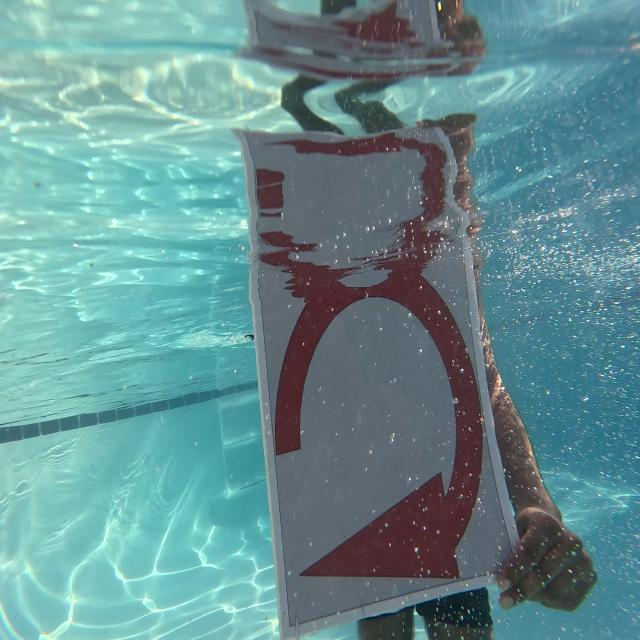red_side: (254, 238, 505, 612)
